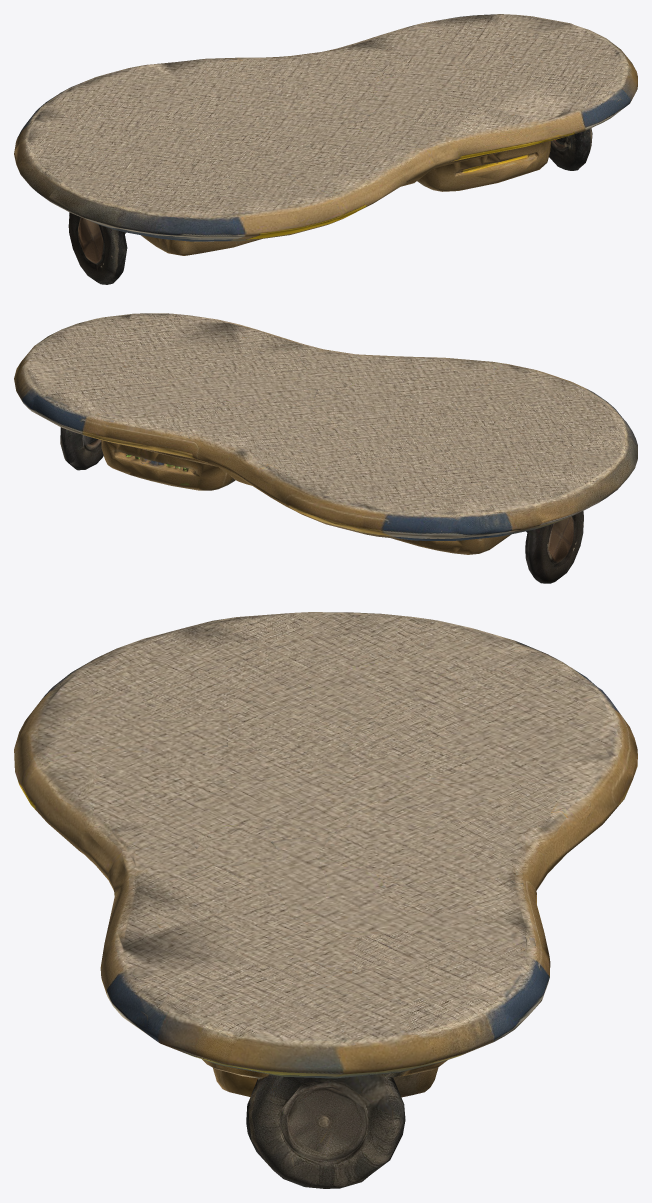
Rendered from silt_and_signal_port_duneHoverboardJade.95526b63.glb.
3 renders of one model, top to bottom at view 1: azimuth 30°, elevation 25°; view 2: azimuth 150°, elevation 25°; view 3: azimuth 270°, elevation 25°, orthographic. The views are drawn at different scales.
Size of the model in its own units: 2 by 0.3841 by 1.18.
1 material, 1 textured.
